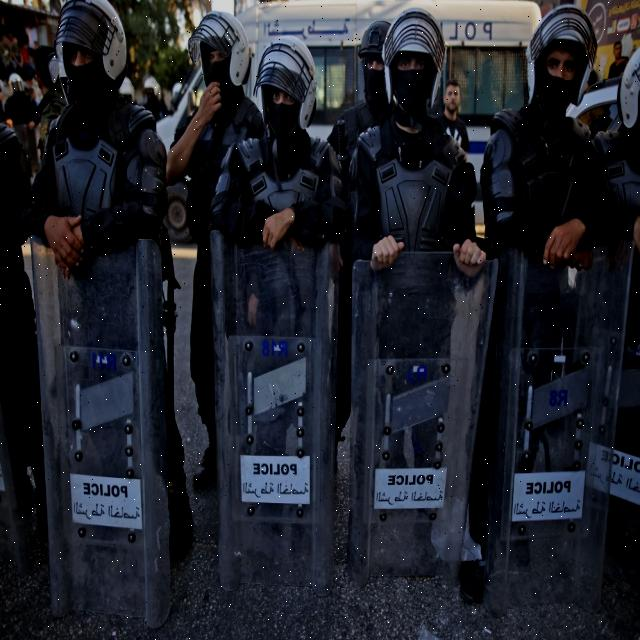police: (30, 0, 186, 640), (341, 0, 486, 572), (489, 0, 621, 620), (217, 0, 344, 636), (164, 0, 258, 640)
